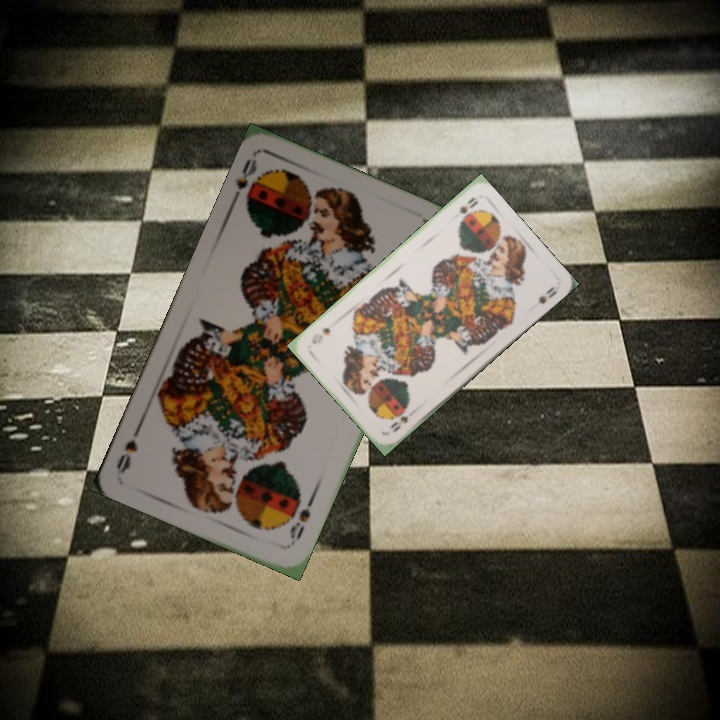SO: (227, 155, 263, 212), (283, 493, 317, 548), (385, 406, 411, 435), (455, 193, 481, 217)
